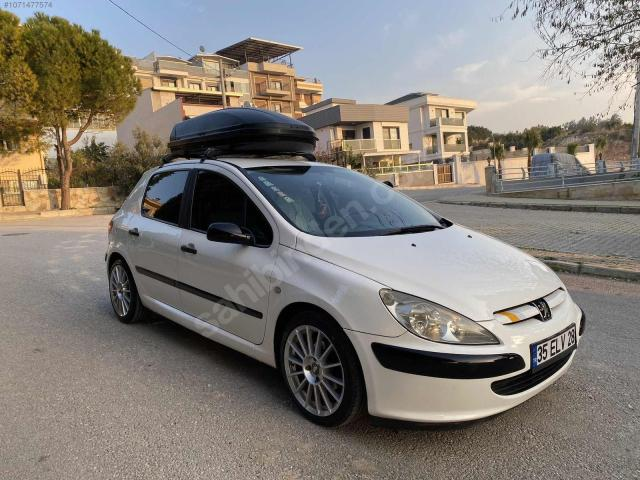plaka: (531, 324, 576, 367)
